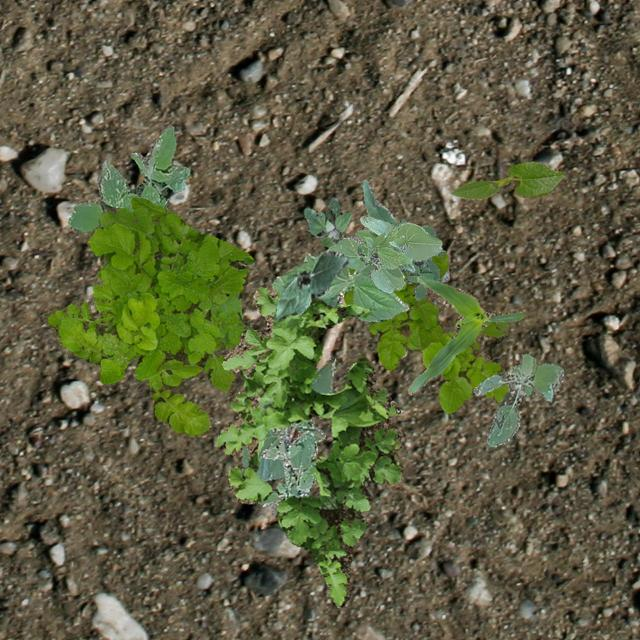crop: (407, 274, 522, 394), (240, 360, 334, 480), (270, 252, 408, 322), (359, 178, 448, 280), (324, 216, 440, 292), (272, 250, 348, 320), (449, 160, 562, 198)
weed: (216, 286, 404, 606), (41, 196, 252, 437), (342, 250, 508, 412), (68, 124, 188, 230), (472, 352, 562, 446), (256, 430, 316, 514), (389, 218, 442, 300), (302, 196, 350, 247)
